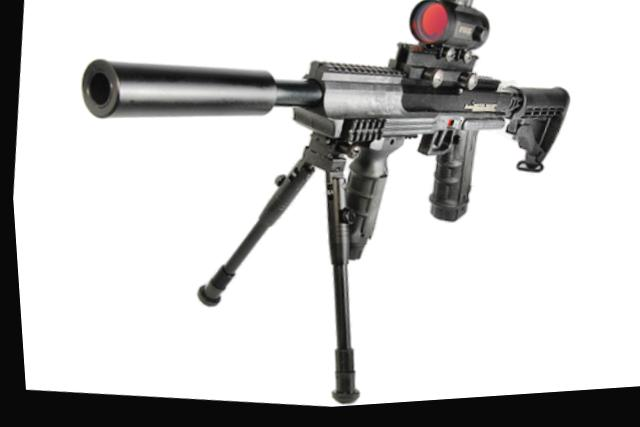pistol: (273, 37, 518, 267)
